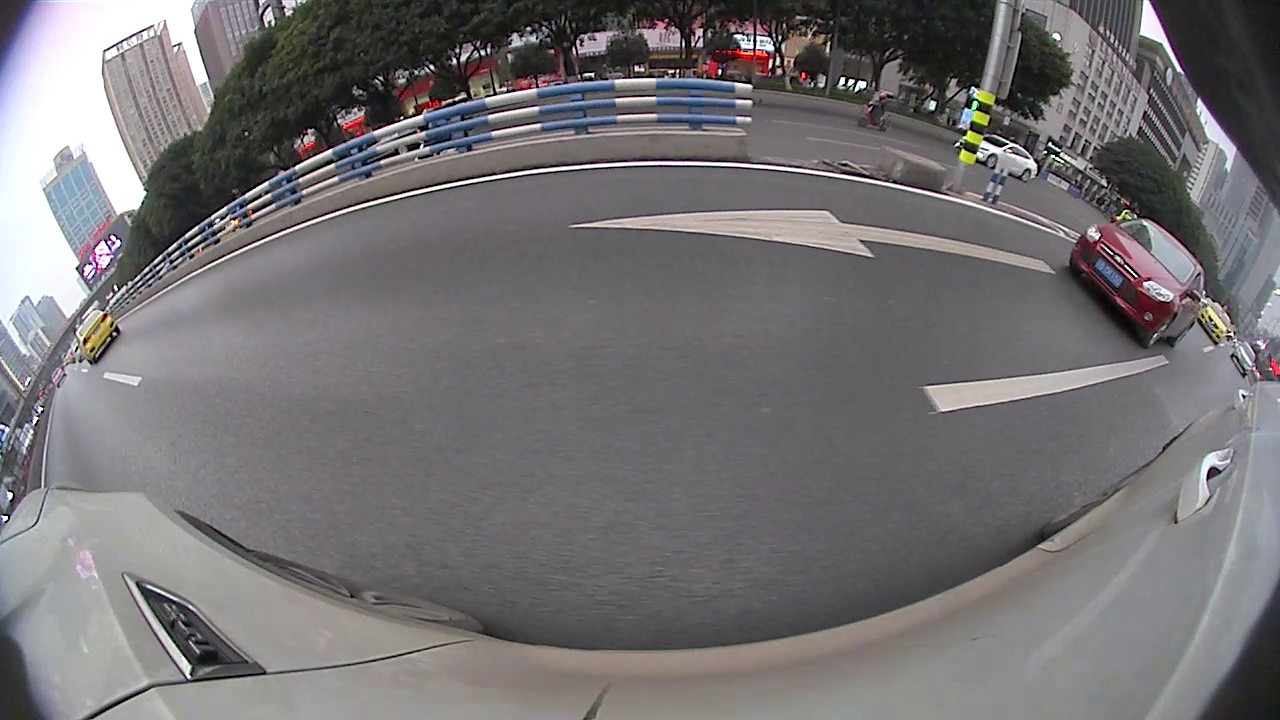car: (1069, 215, 1206, 350), (951, 134, 1039, 182), (74, 307, 122, 368)
front: (1142, 316, 1172, 346), (985, 155, 997, 168)
rear: (1022, 169, 1030, 182)
rider: (854, 88, 897, 136)
